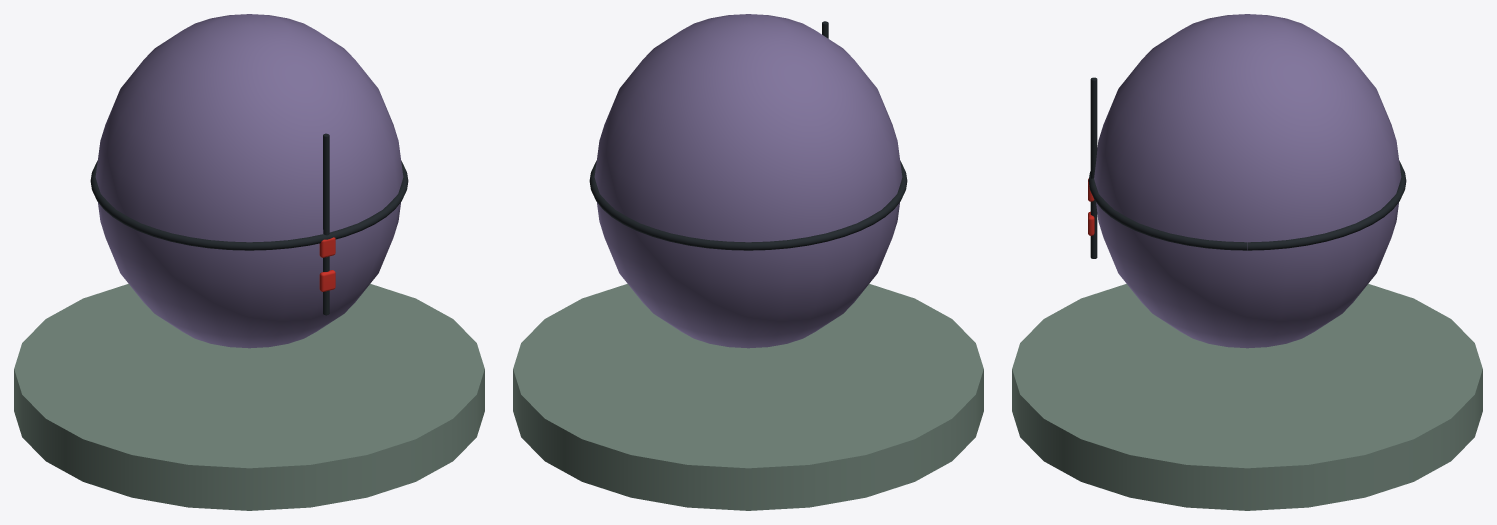
3 views of the same model, side by side, from view 1: azimuth 30°, elevation 25°; view 2: azimuth 150°, elevation 25°; view 3: azimuth 270°, elevation 25° (orthographic).
Visible parts, largest first — view 1: Foundation drum, Central segmented field orb, Field orb equator seam, Orb axial dividing seam; view 2: Foundation drum, Central segmented field orb, Field orb equator seam; view 3: Foundation drum, Central segmented field orb, Field orb equator seam, Orb axial dividing seam.
Boxes of the visible parts, left/top/right/bottom form: Foundation drum: left=14, top=284, right=484, bottom=510; Central segmented field orb: left=95, top=14, right=403, bottom=348; Field orb equator seam: left=90, top=161, right=408, bottom=250; Orb axial dividing seam: left=323, top=133, right=329, bottom=315; Foundation drum: left=513, top=284, right=983, bottom=510; Central segmented field orb: left=594, top=14, right=902, bottom=348; Field orb equator seam: left=589, top=161, right=907, bottom=250; Foundation drum: left=1012, top=284, right=1482, bottom=510; Central segmented field orb: left=1094, top=14, right=1401, bottom=348; Field orb equator seam: left=1088, top=161, right=1406, bottom=250; Orb axial dividing seam: left=1090, top=77, right=1097, bottom=258.
Size of the model in its own units: 2.5 by 2.26 by 2.5.
